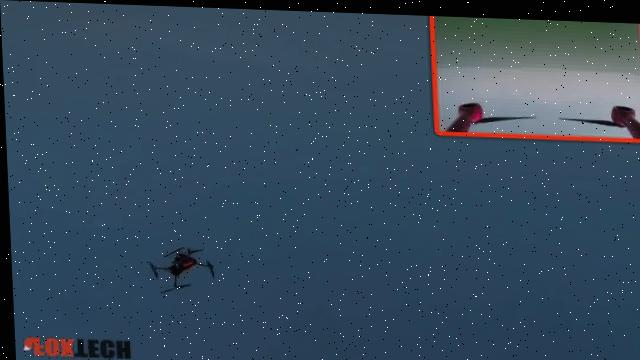drone: (134, 243, 226, 293)
